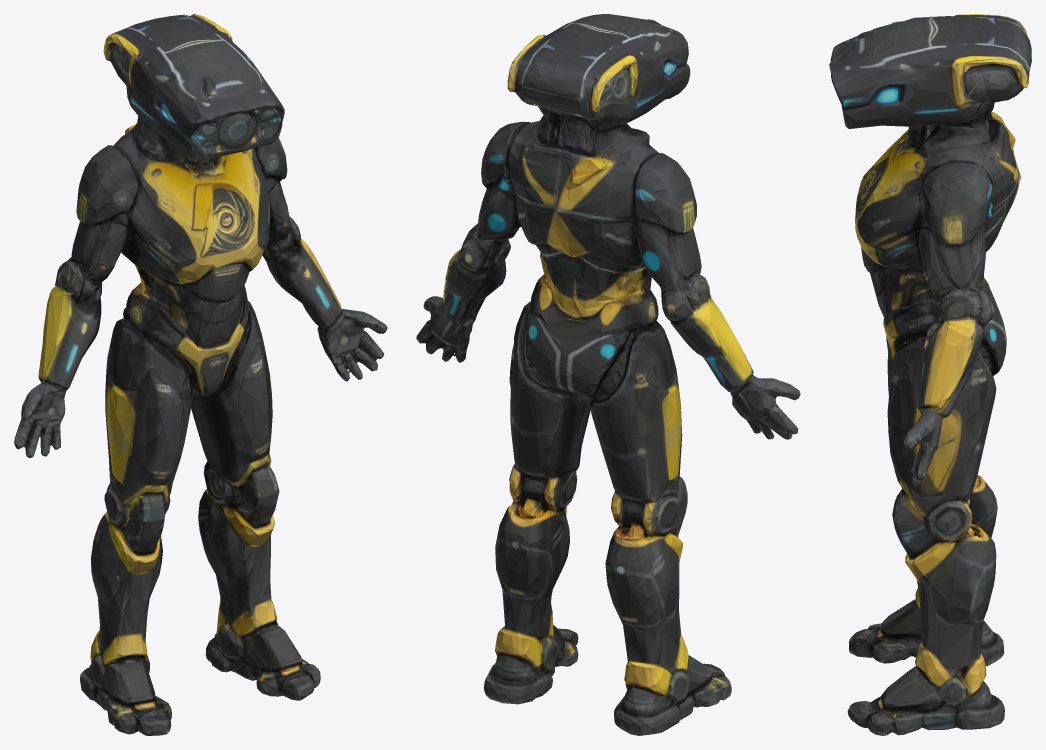
File: robot.glb
The picture shows the model from 3 angles, left to right: view 1: azimuth 30°, elevation 25°; view 2: azimuth 150°, elevation 25°; view 3: azimuth 270°, elevation 25°; orthographic projection. The views are drawn at different scales.
Parts seen in each view (by area): view 1: Mesh1.0, LegR, LegL, head, ArmR_Lower, ArmR_Upper, ArmL_Lower, ArmL_Hand, ArmR_Hand, ArmL_Upper; view 2: LegR, Mesh1.0, LegL, head, ArmR_Upper, ArmR_Lower, ArmL_Upper, ArmL_Lower, ArmR_Hand, ArmL_Hand; view 3: LegL, head, Mesh1.0, ArmL_Upper, LegR, ArmL_Lower, ArmL_Hand.
Boxes of the visible parts, x1,y1,x2,y2 form: Mesh1.0: (111, 116, 270, 396); LegR: (80, 299, 192, 735); LegL: (190, 301, 320, 700); head: (103, 14, 284, 162); ArmR_Lower: (38, 257, 114, 387); ArmR_Upper: (70, 145, 135, 265); ArmL_Lower: (262, 227, 341, 329); ArmL_Hand: (314, 309, 387, 381); ArmR_Hand: (14, 374, 68, 458); ArmL_Upper: (261, 138, 299, 238); LegR: (550, 305, 731, 735); Mesh1.0: (509, 115, 669, 387); LegL: (483, 301, 592, 704); head: (507, 14, 690, 135); ArmR_Upper: (633, 153, 699, 289); ArmR_Lower: (661, 256, 752, 386); ArmL_Upper: (463, 121, 528, 256); ArmL_Lower: (443, 239, 510, 324); ArmR_Hand: (708, 360, 800, 439); ArmL_Hand: (416, 296, 476, 362); LegL: (847, 331, 1004, 735); head: (829, 14, 1031, 132); Mesh1.0: (855, 112, 1020, 366); ArmL_Upper: (918, 162, 992, 311); LegR: (849, 277, 1006, 666); ArmL_Lower: (918, 293, 994, 415); ArmL_Hand: (904, 401, 950, 486).
Bounding box in the file's own units: 1.2 × 2.01 × 0.559.
Materials: 1 (1 with a texture image).
